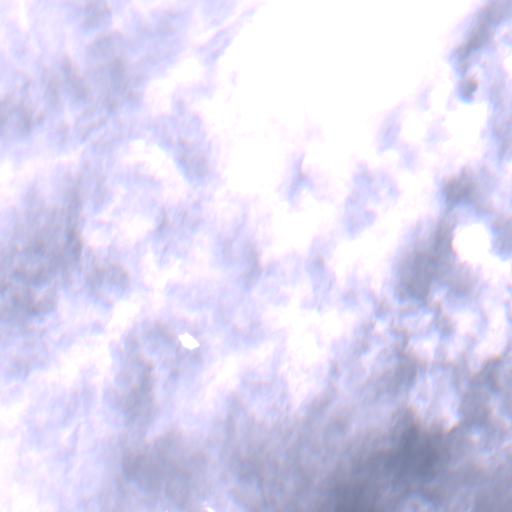Iceberg: (180, 334, 198, 348)
